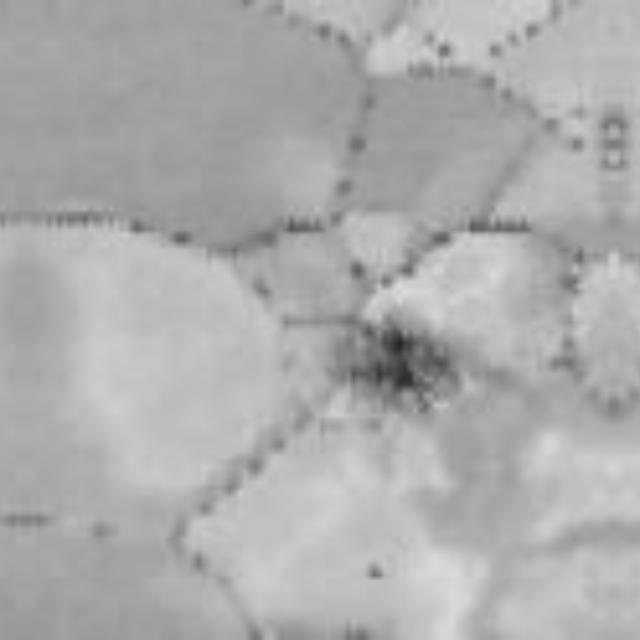good_void: (335, 316, 463, 417), (362, 556, 389, 583)
